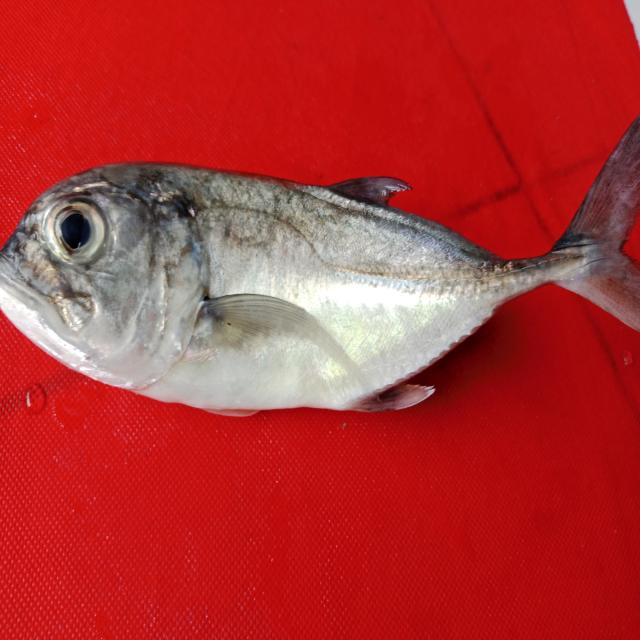ikan: (7, 87, 634, 430)
